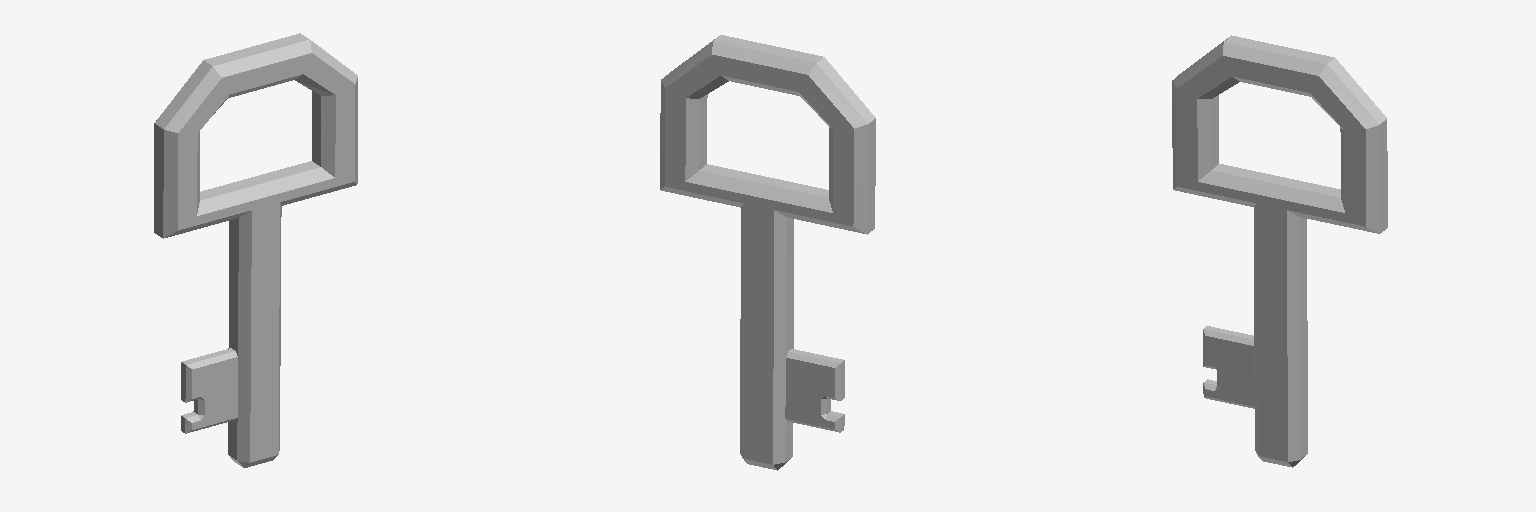
Rendered from key.obj.
3 renders of one model, left to right at view 1: azimuth 30°, elevation 25°; view 2: azimuth 150°, elevation 25°; view 3: azimuth 330°, elevation 25°, orthographic.
Size of the model in its own units: 1.66 by 3.25 by 0.3657.